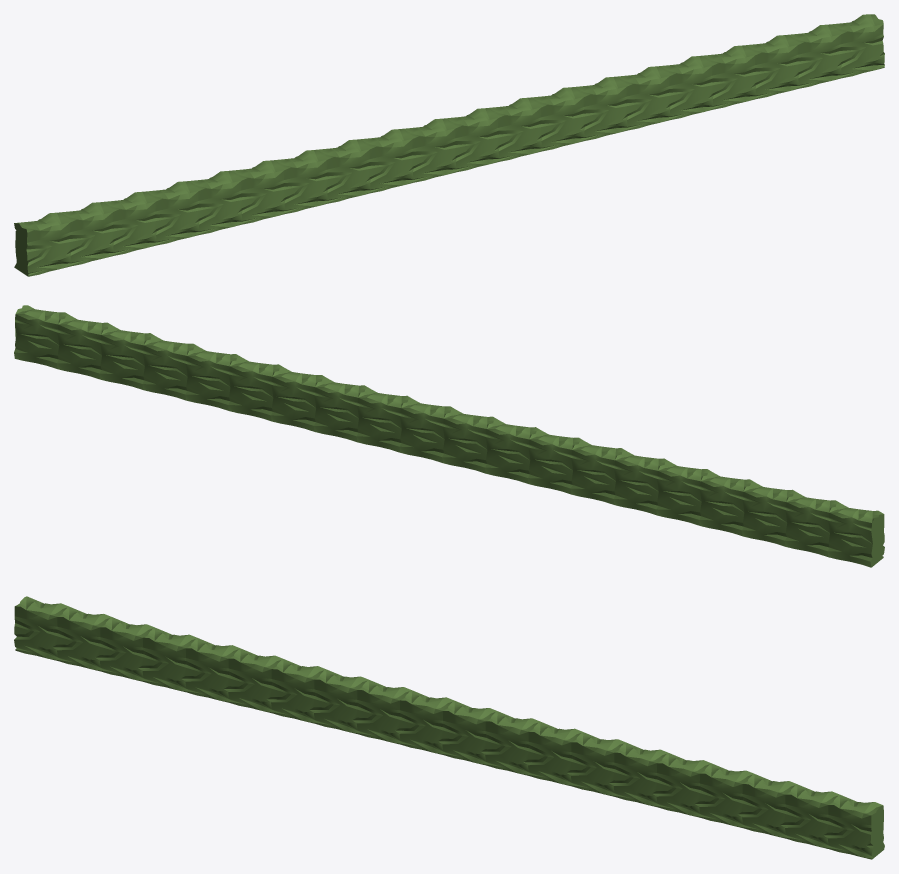
File: fence.fbx
3 renders of one model, top to bottom at view 1: azimuth 30°, elevation 25°; view 2: azimuth 150°, elevation 25°; view 3: azimuth 330°, elevation 25°, orthographic.
Visible parts, largest first — view 1: Hedge_1; view 2: Hedge_1; view 3: Hedge_1.
Part boxes in pixels (x1,y1,x2,y2): Hedge_1: (14,14,884,276); Hedge_1: (14,305,884,567); Hedge_1: (14,596,884,859).
Bounding box in the file's own units: 909 × 47.27 × 25.42.
